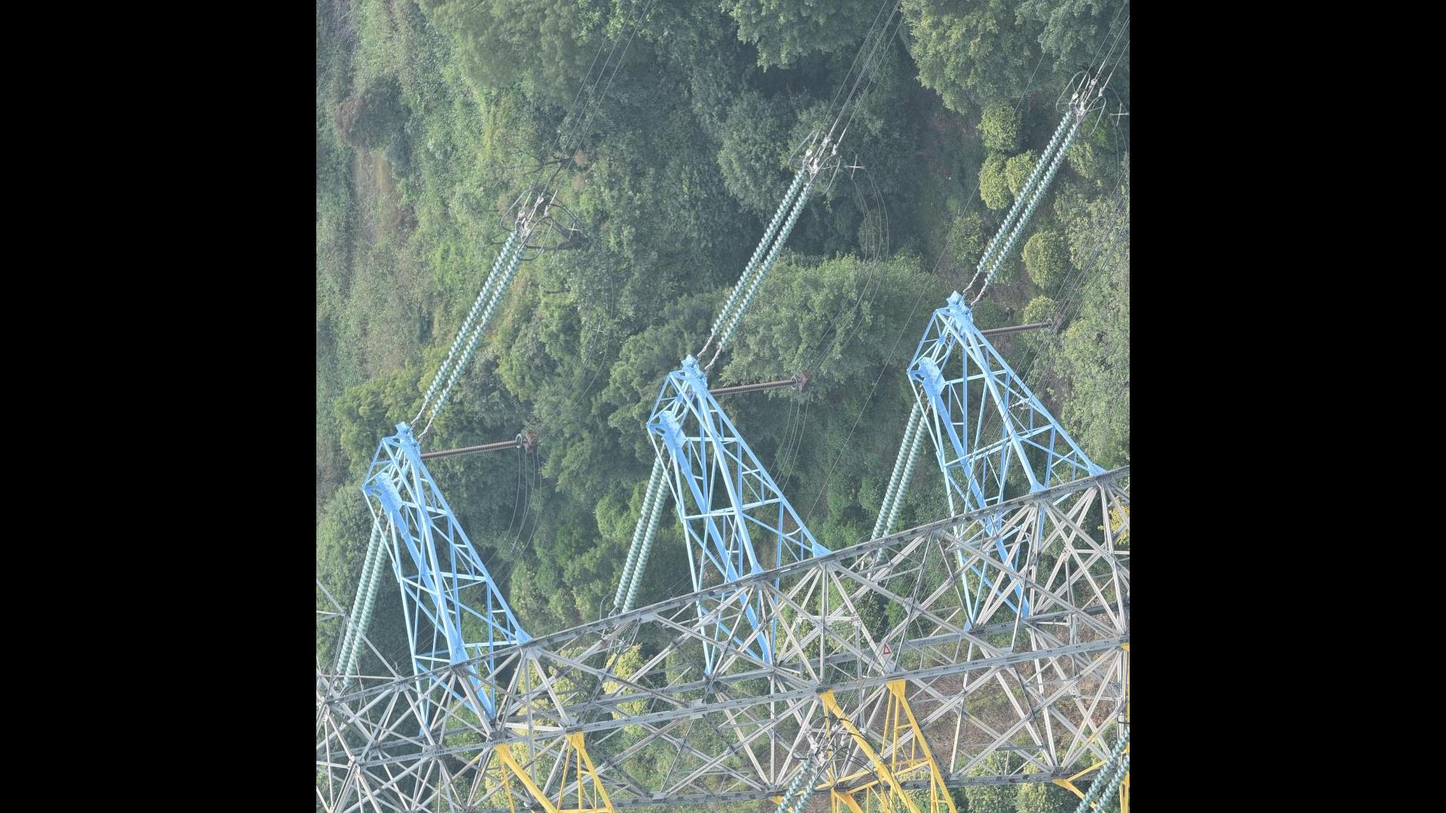insulator: (423, 230, 527, 419), (710, 169, 816, 349), (974, 109, 1078, 288), (334, 515, 392, 687), (611, 454, 673, 614), (870, 401, 931, 542), (1072, 727, 1130, 813), (773, 761, 817, 813), (420, 438, 518, 461), (709, 377, 794, 399), (979, 321, 1048, 338)
insulator_stringdrop: (442, 348, 458, 371), (792, 765, 810, 785), (475, 313, 491, 334), (441, 378, 456, 399), (636, 509, 651, 527), (883, 522, 896, 537)
